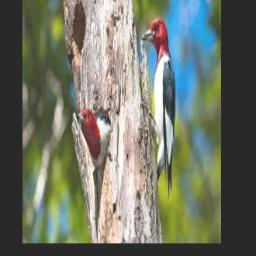Woodpecker: (141, 19, 176, 197), (77, 104, 112, 203)
